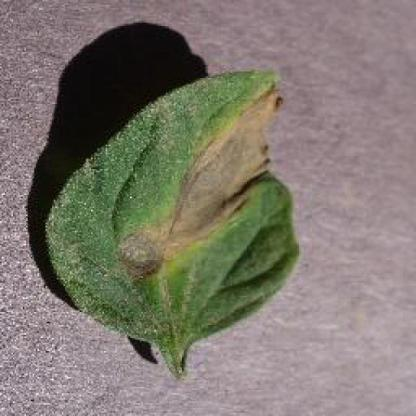Tomato_Blight: (43, 71, 298, 372)
